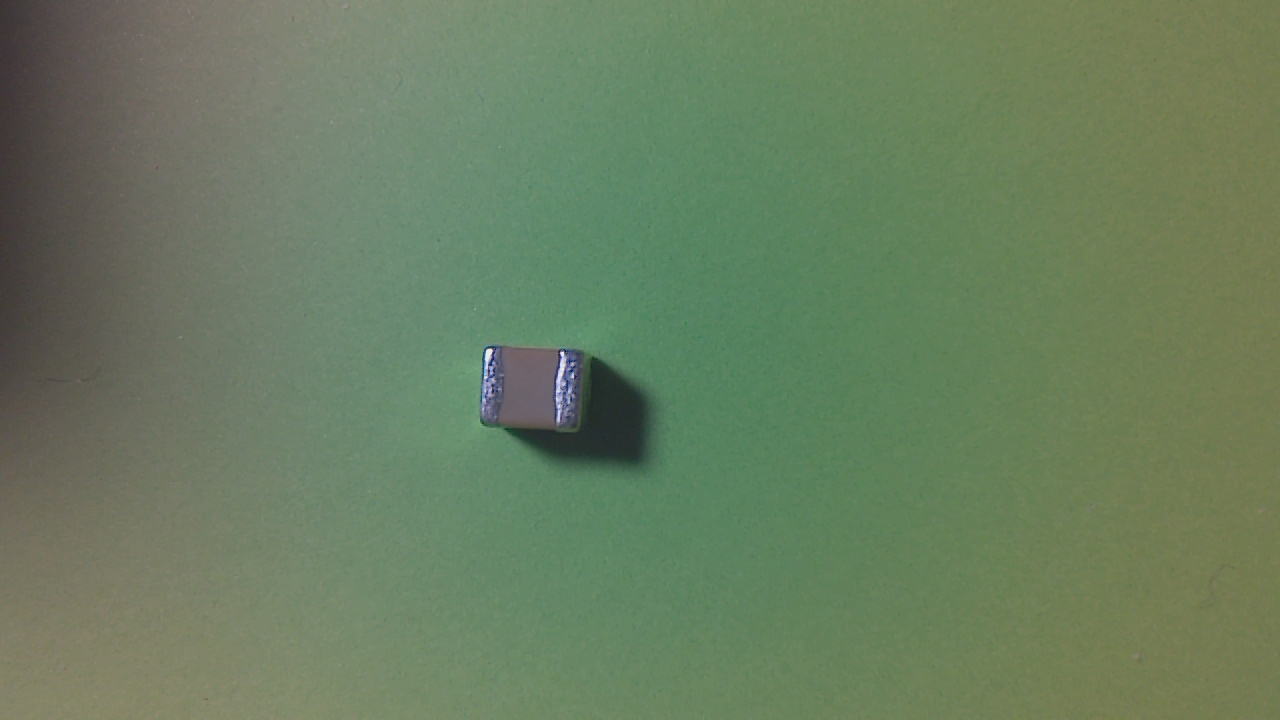Condensator: (479, 345, 593, 441)
